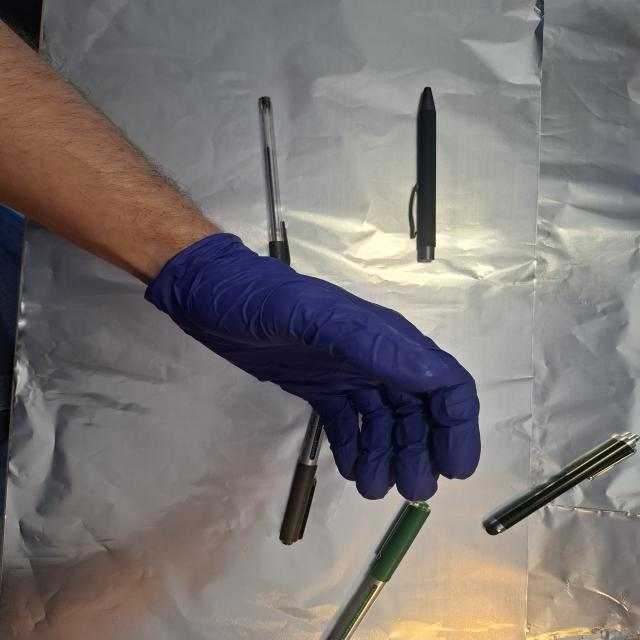glove_on: (144, 232, 486, 504)
